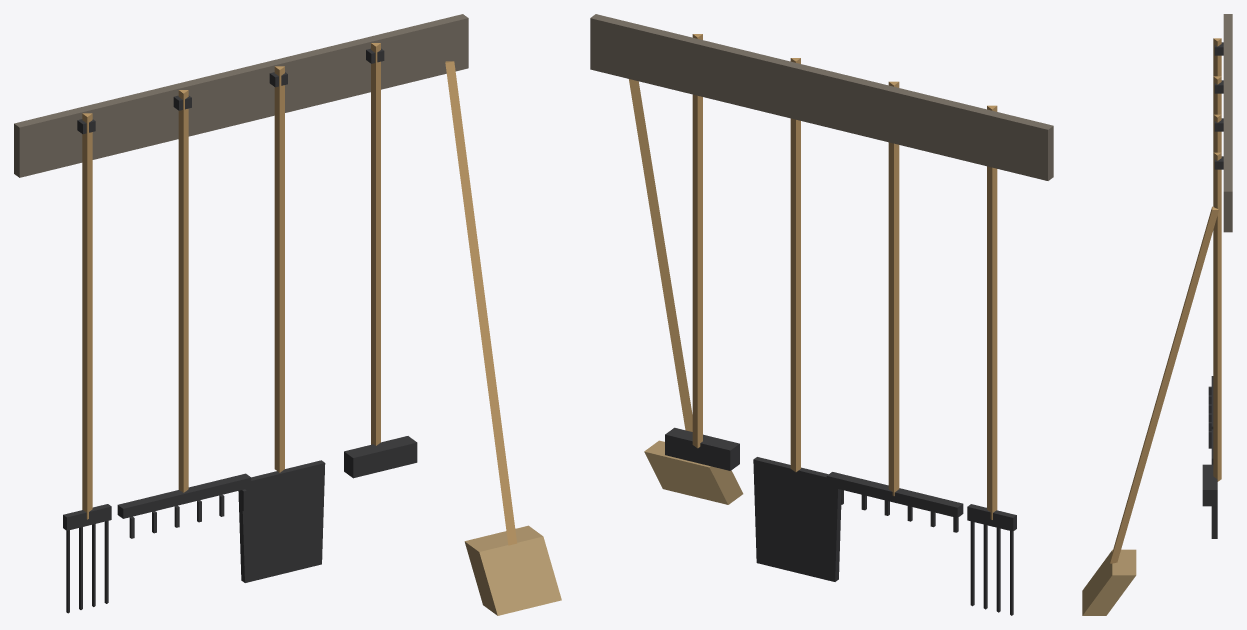
The model's file is tool_rack.glb.
3 renders of one model, left to right at view 1: azimuth 30°, elevation 25°; view 2: azimuth 150°, elevation 25°; view 3: azimuth 270°, elevation 25°, orthographic. The views are drawn at different scales.
Parts seen in each view (by area): view 1: tool_rack; view 2: tool_rack; view 3: tool_rack.
Boxes of the visible parts, x1=… form: tool_rack: x1=14, y1=14, x2=561, y2=615; tool_rack: x1=590, y1=14, x2=1053, y2=615; tool_rack: x1=1082, y1=14, x2=1232, y2=615.
Bounding box in the file's own units: 1.42 × 1.55 × 0.5.
1 material, 1 textured.
